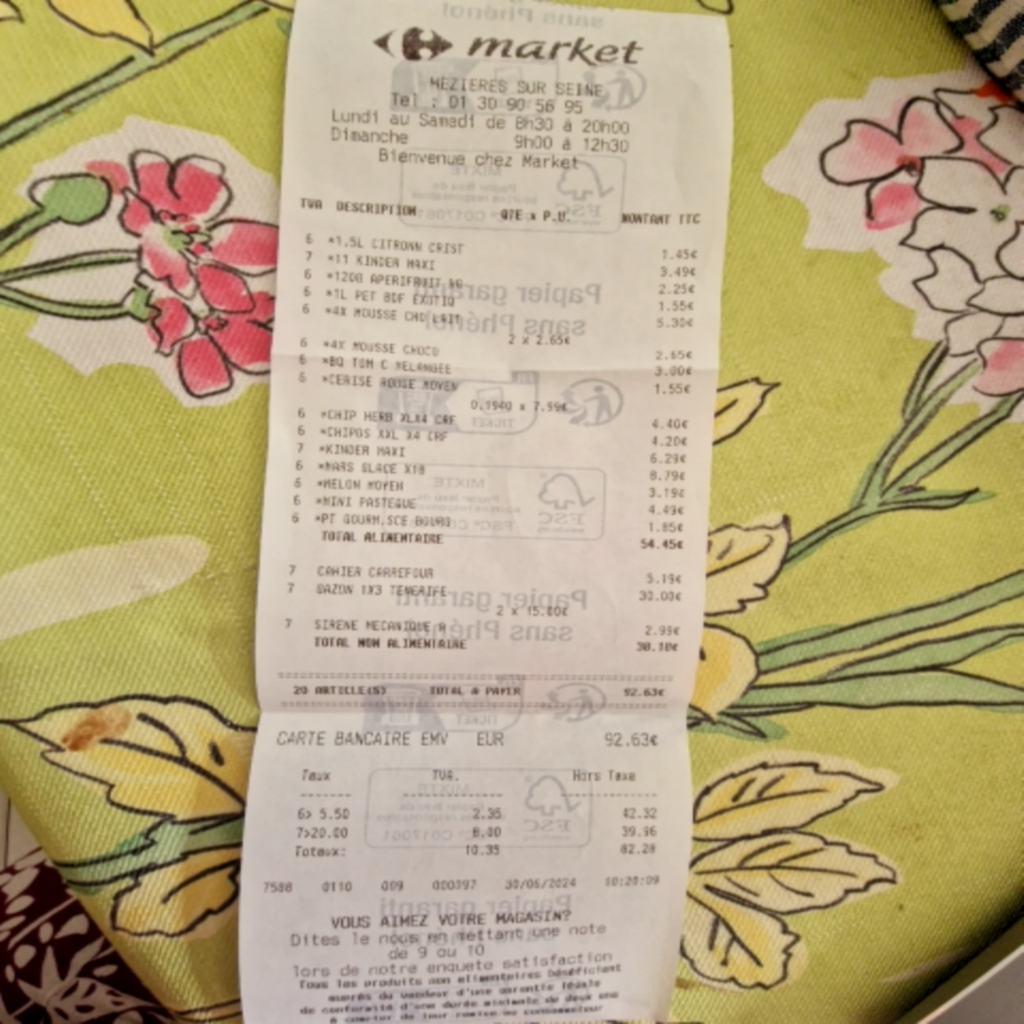recipt: (239, 0, 734, 1014)
